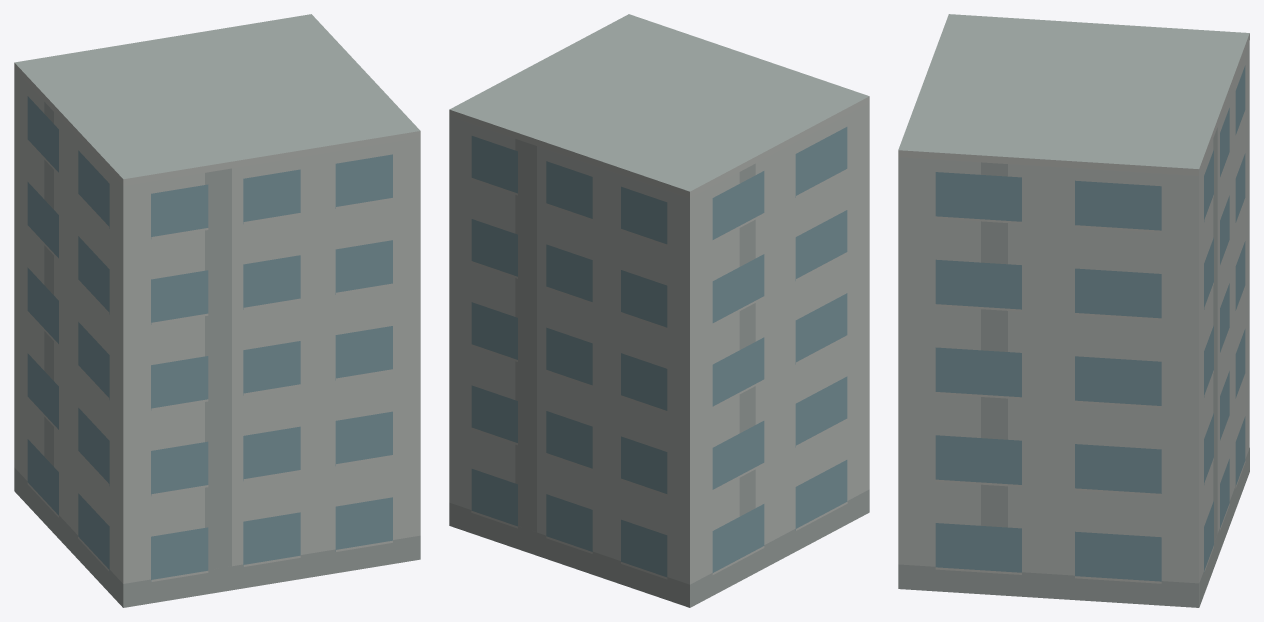
The model's file is survey-upis-32554777.glb.
3 views of the same model, side by side, from view 1: azimuth 30°, elevation 25°; view 2: azimuth 150°, elevation 25°; view 3: azimuth 270°, elevation 25° (orthographic). The views are drawn at different scales.
Parts seen in each view (by area): view 1: survey-upis-32554777.tmp; view 2: survey-upis-32554777.tmp; view 3: survey-upis-32554777.tmp.
Boxes of the visible parts, box(x1,y1,x2,y2) form: survey-upis-32554777.tmp: box(14, 14, 420, 607); survey-upis-32554777.tmp: box(449, 14, 869, 607); survey-upis-32554777.tmp: box(898, 14, 1249, 607).
Size of the model in its own units: 11.57 by 15.25 by 11.09.
